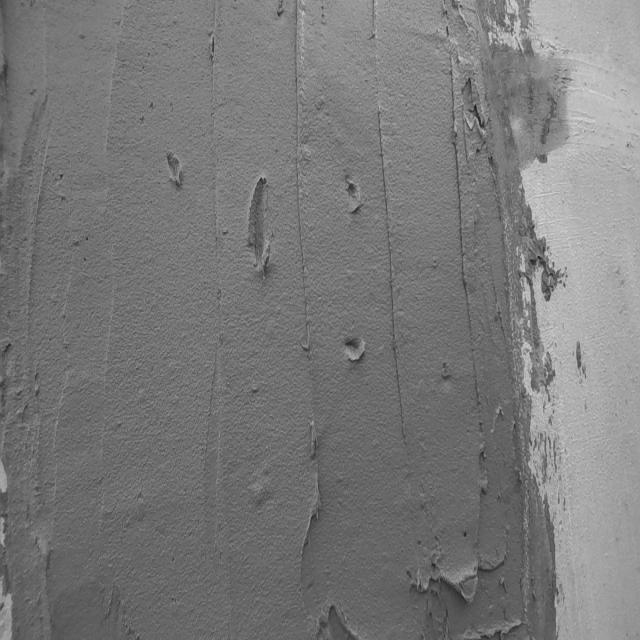trowels marks: (371, 6, 417, 482), (291, 4, 323, 608), (446, 25, 486, 475)
